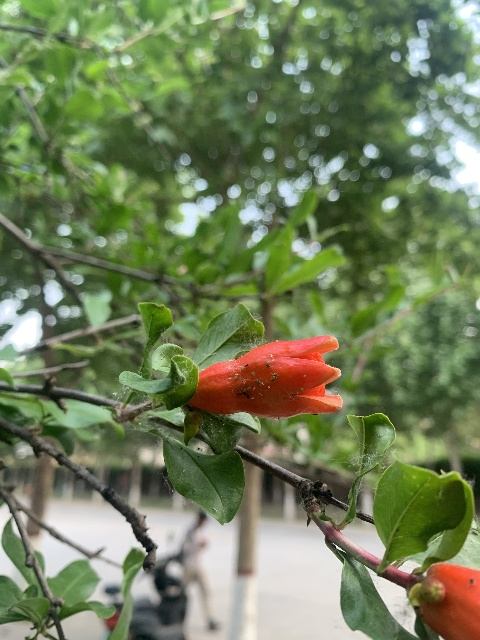flower: (190, 334, 345, 420)
